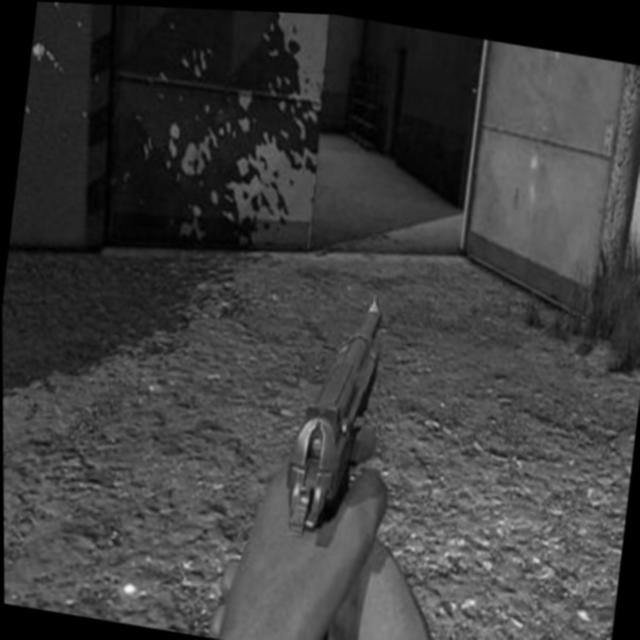weapon: (232, 267, 412, 640)
